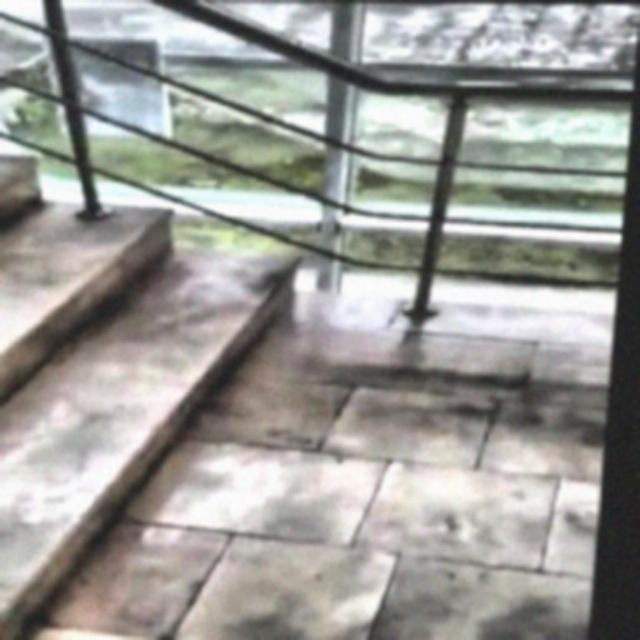stair: (1, 176, 344, 638)
